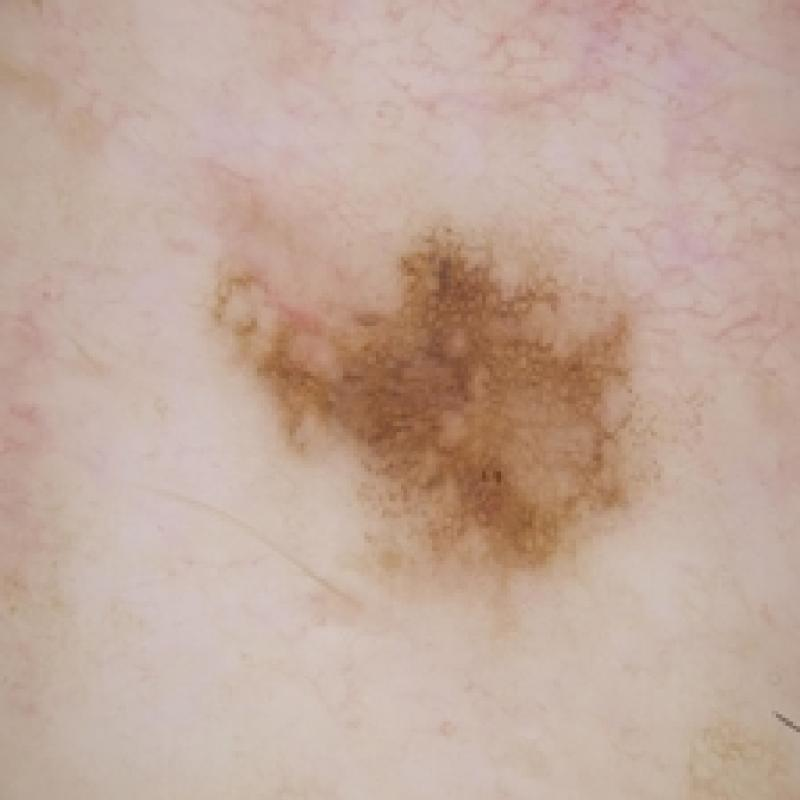benign: (184, 197, 681, 592)
